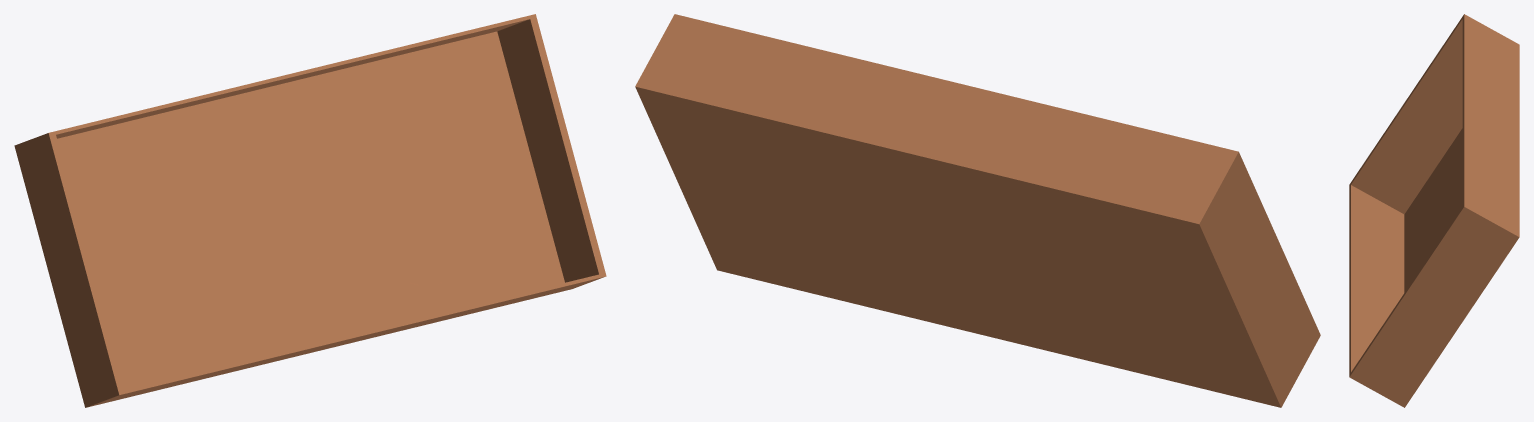
The model's file is finalbox.fbx.
The picture shows the model from 3 angles, left to right: view 1: azimuth 30°, elevation 25°; view 2: azimuth 150°, elevation 25°; view 3: azimuth 270°, elevation 25°; orthographic projection. The views are drawn at different scales.
Visible parts, largest first — view 1: node_id27; view 2: node_id27; view 3: node_id27.
Boxes of the visible parts, bbox=[...] form: node_id27: bbox=[14, 14, 606, 407]; node_id27: bbox=[635, 14, 1320, 407]; node_id27: bbox=[1349, 14, 1519, 407].
Size of the model in its own units: 0.8841 by 0.4304 by 0.3299.
Materials: 1 (1 with a texture image).
